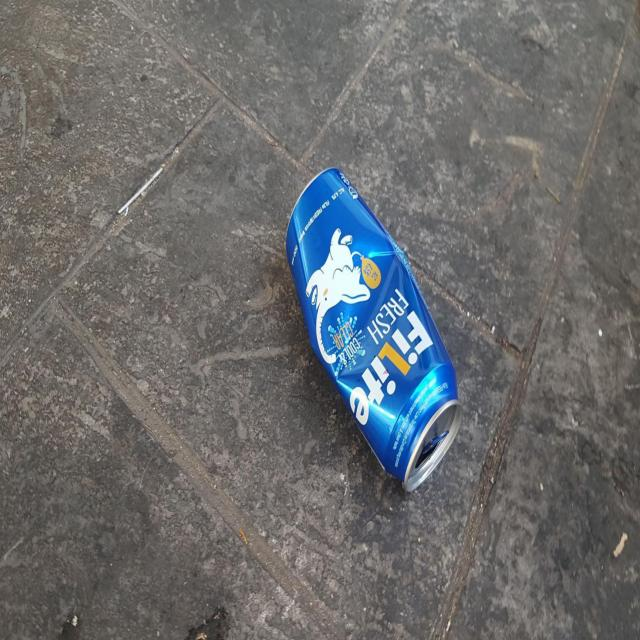can: (286, 167, 462, 491)
